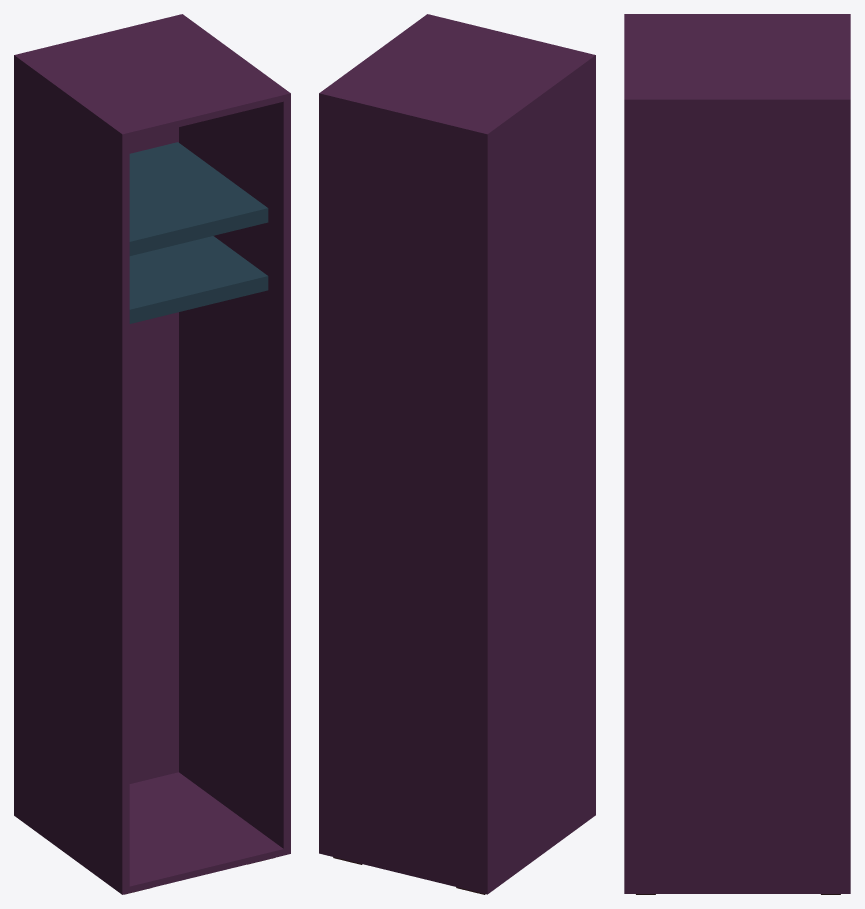
The model's file is staticMesh_prop_Locker.fbx.
The picture shows the model from 3 angles, left to right: view 1: azimuth 30°, elevation 25°; view 2: azimuth 150°, elevation 25°; view 3: azimuth 270°, elevation 25°; orthographic projection. The views are drawn at different scales.
Parts seen in each view (by area): view 1: Locker; view 2: Locker; view 3: Locker.
Part boxes in pixels (x1,y1,x2,y2): Locker: (14, 14, 290, 894); Locker: (319, 14, 595, 894); Locker: (624, 14, 850, 894).
Bounding box in the file's own units: 126 × 549 × 141.
